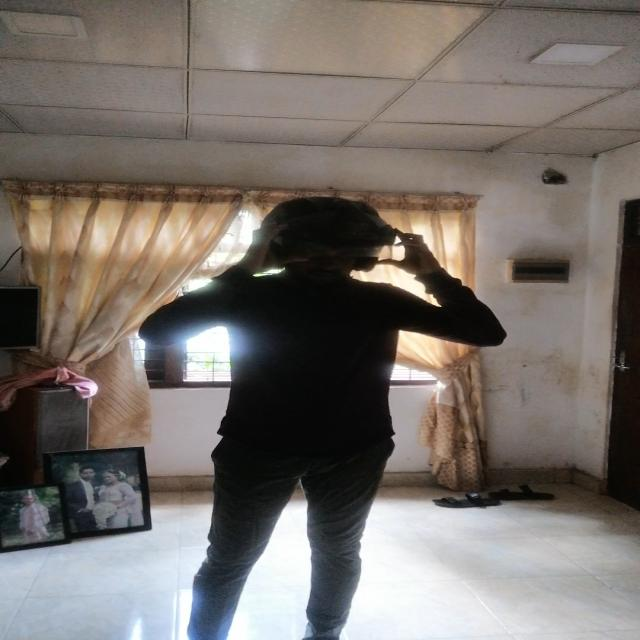Helmet_Wearer: (249, 197, 415, 288)
Person: (149, 184, 492, 640)
